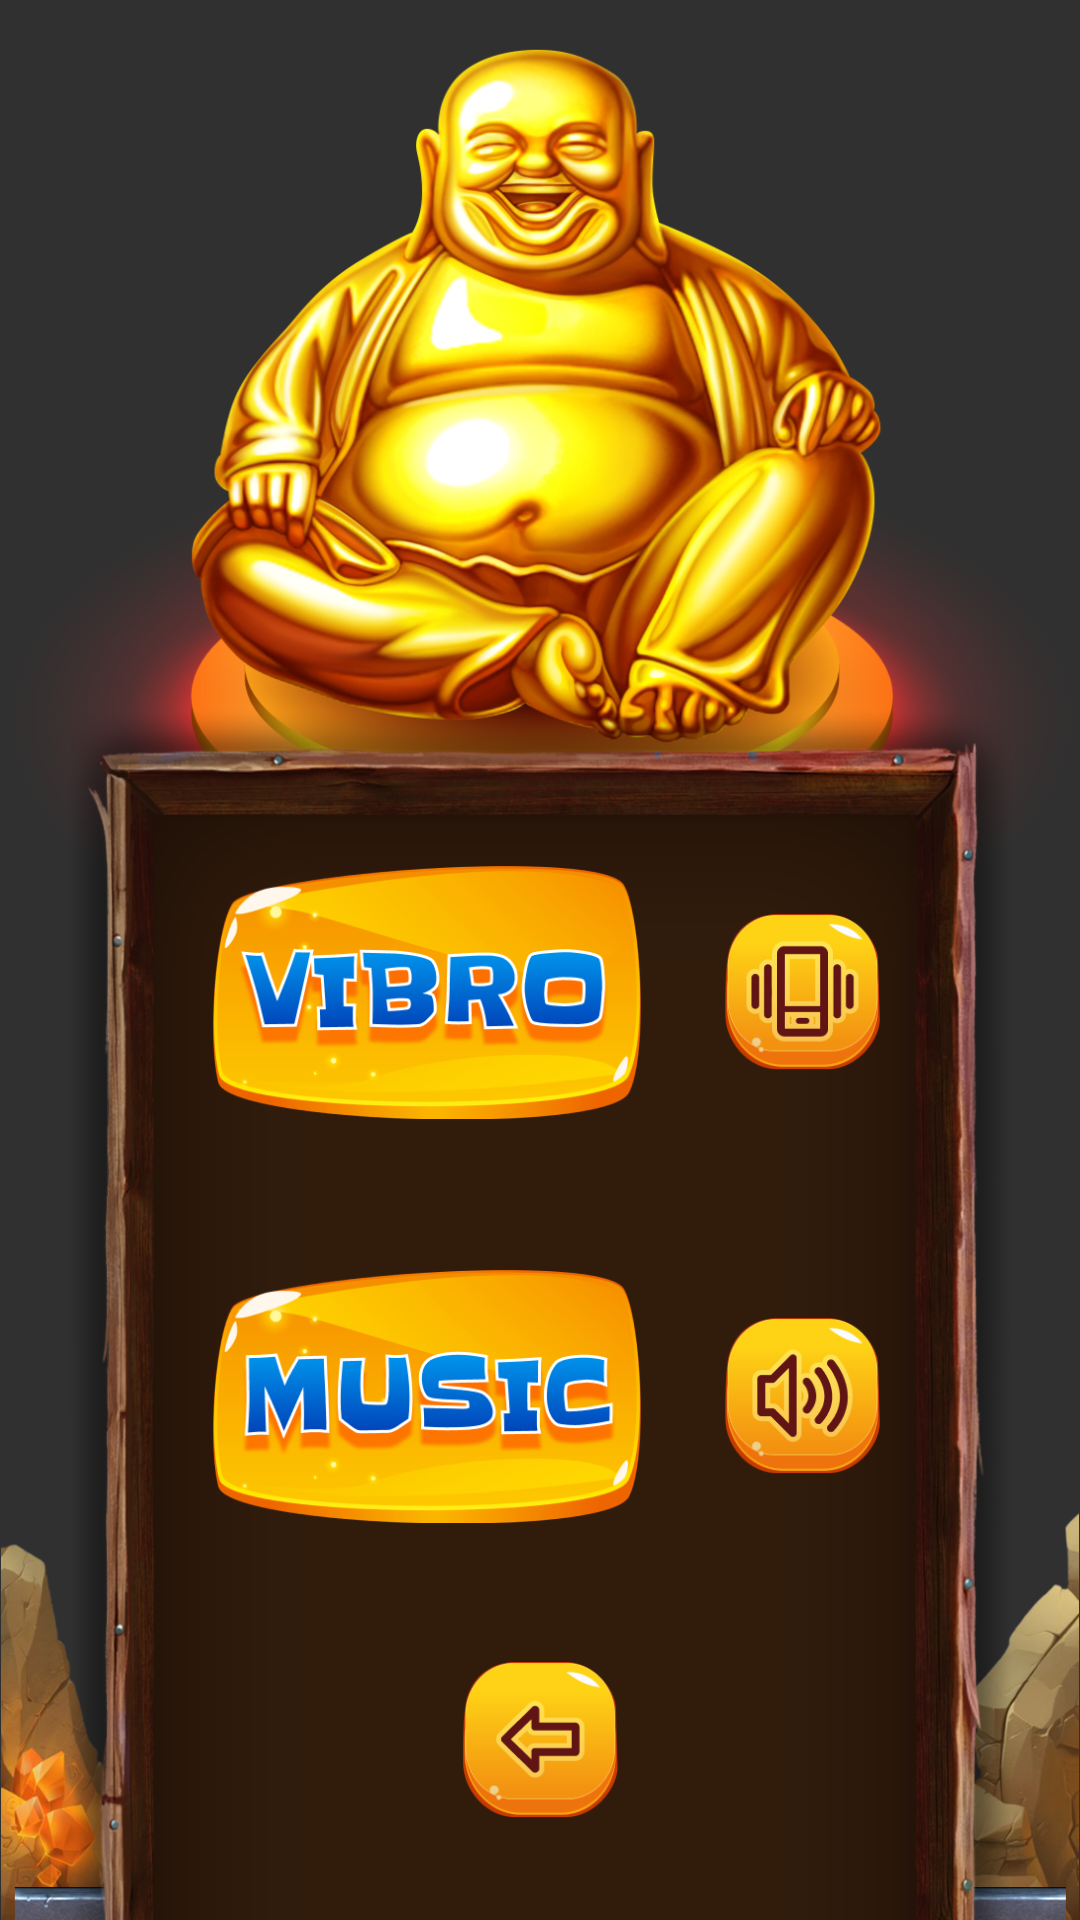

Where icons sit on this 1080×1920 app screen, as (x1, y1, x2, y2):
sound on: (725, 1318, 880, 1473)
vibro on: (725, 914, 880, 1069)
